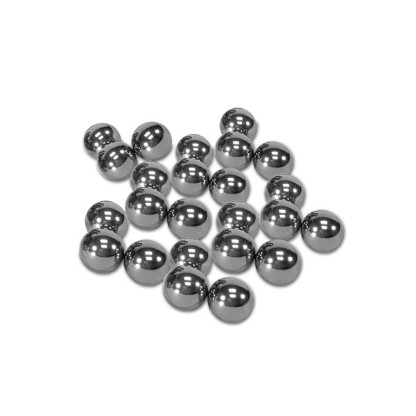ironball: (206, 275, 254, 323), (254, 238, 301, 286), (122, 238, 169, 285), (162, 264, 208, 310), (78, 227, 124, 273), (210, 227, 255, 273), (300, 208, 344, 253), (166, 196, 210, 239), (124, 186, 167, 229), (258, 198, 301, 240), (83, 199, 127, 237), (168, 237, 211, 275), (131, 120, 171, 160), (96, 140, 136, 180), (252, 140, 293, 179), (208, 166, 249, 205), (215, 200, 258, 237), (169, 157, 209, 196), (214, 131, 253, 169), (264, 172, 305, 208), (129, 160, 170, 196), (82, 122, 120, 158), (219, 106, 257, 140), (174, 133, 213, 165)
